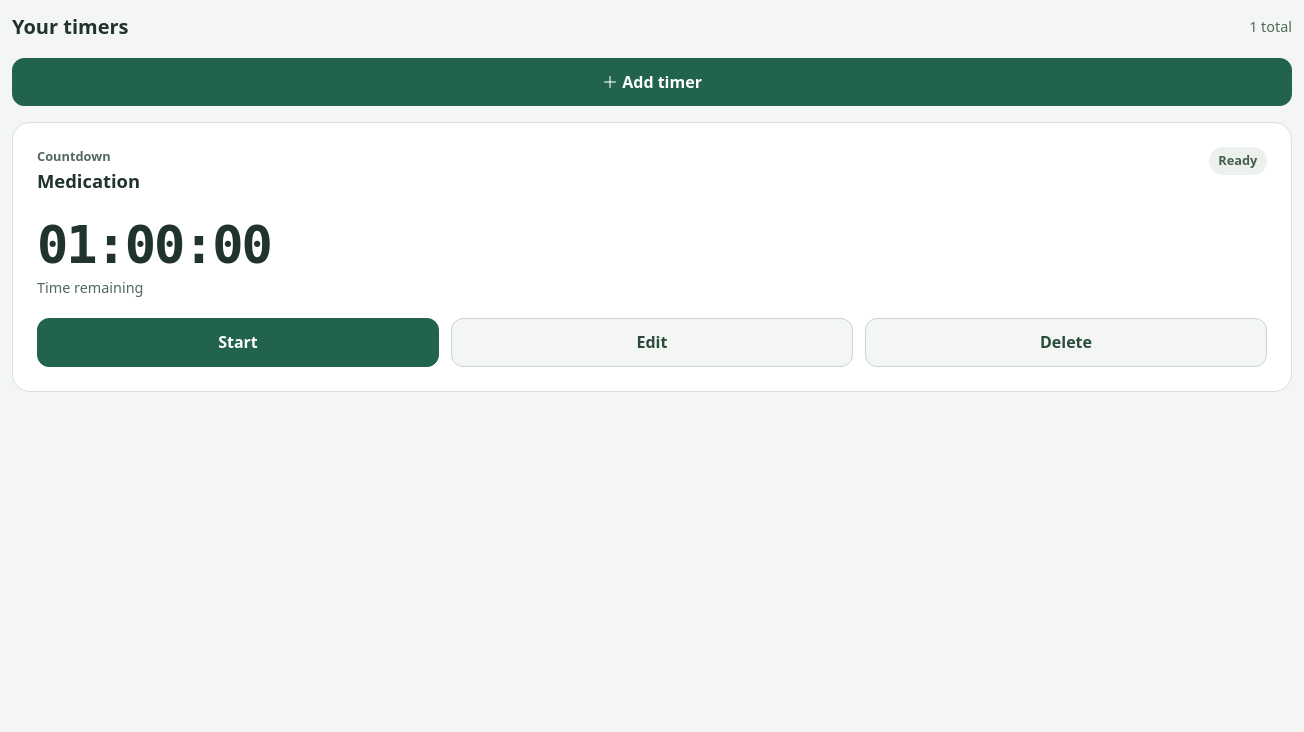
TimersContainer editing › returns to the timer list when editing is cancelled
The image size is (1304, 732).
Click the button "Edit" at (652, 342), box [451,318,853,367]
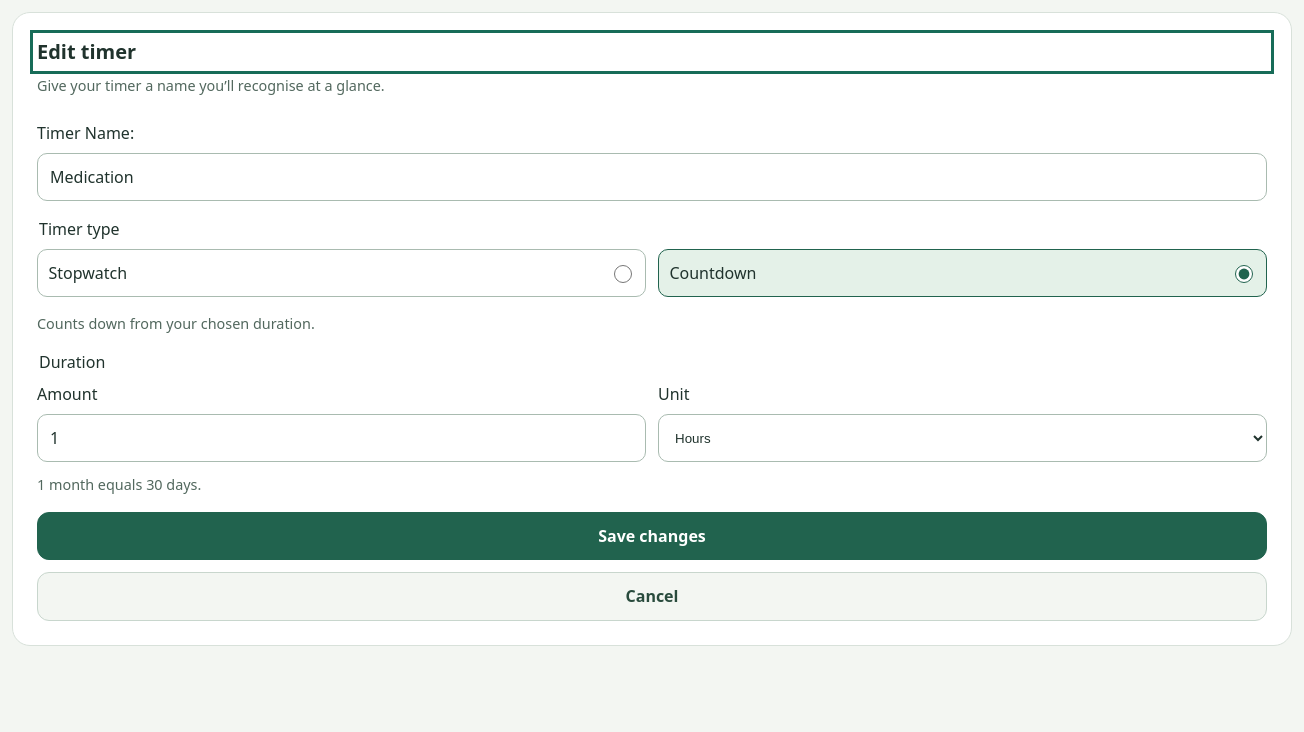
Click the button "Cancel" at (652, 596), box [37,572,1267,621]
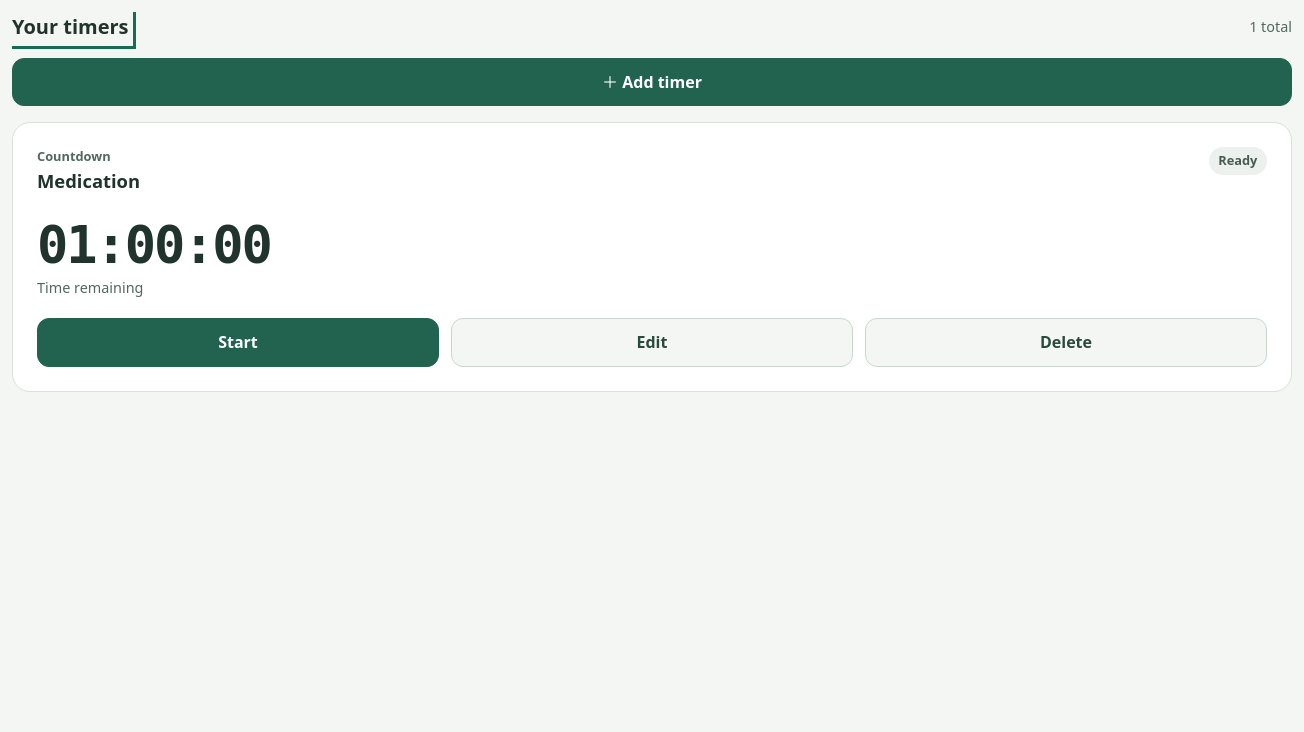
Check: the button "Save changes" is gone
Check: the heading "Medication" is shown, box [37,167,140,194]
Check: the button "＋ Add timer" is shown, box [12,58,1292,106]
